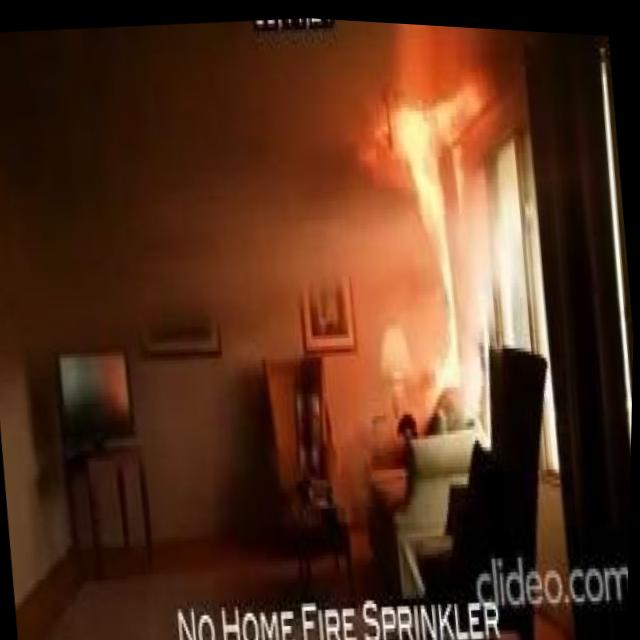fire: (400, 156, 465, 385), (369, 90, 436, 157), (430, 74, 487, 146)
